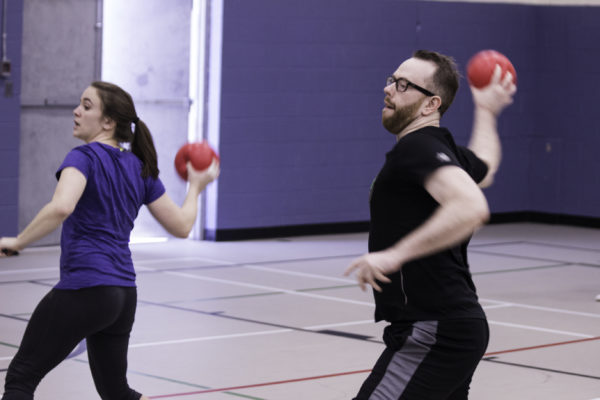red ball: (462, 48, 518, 94), (174, 141, 223, 183)
